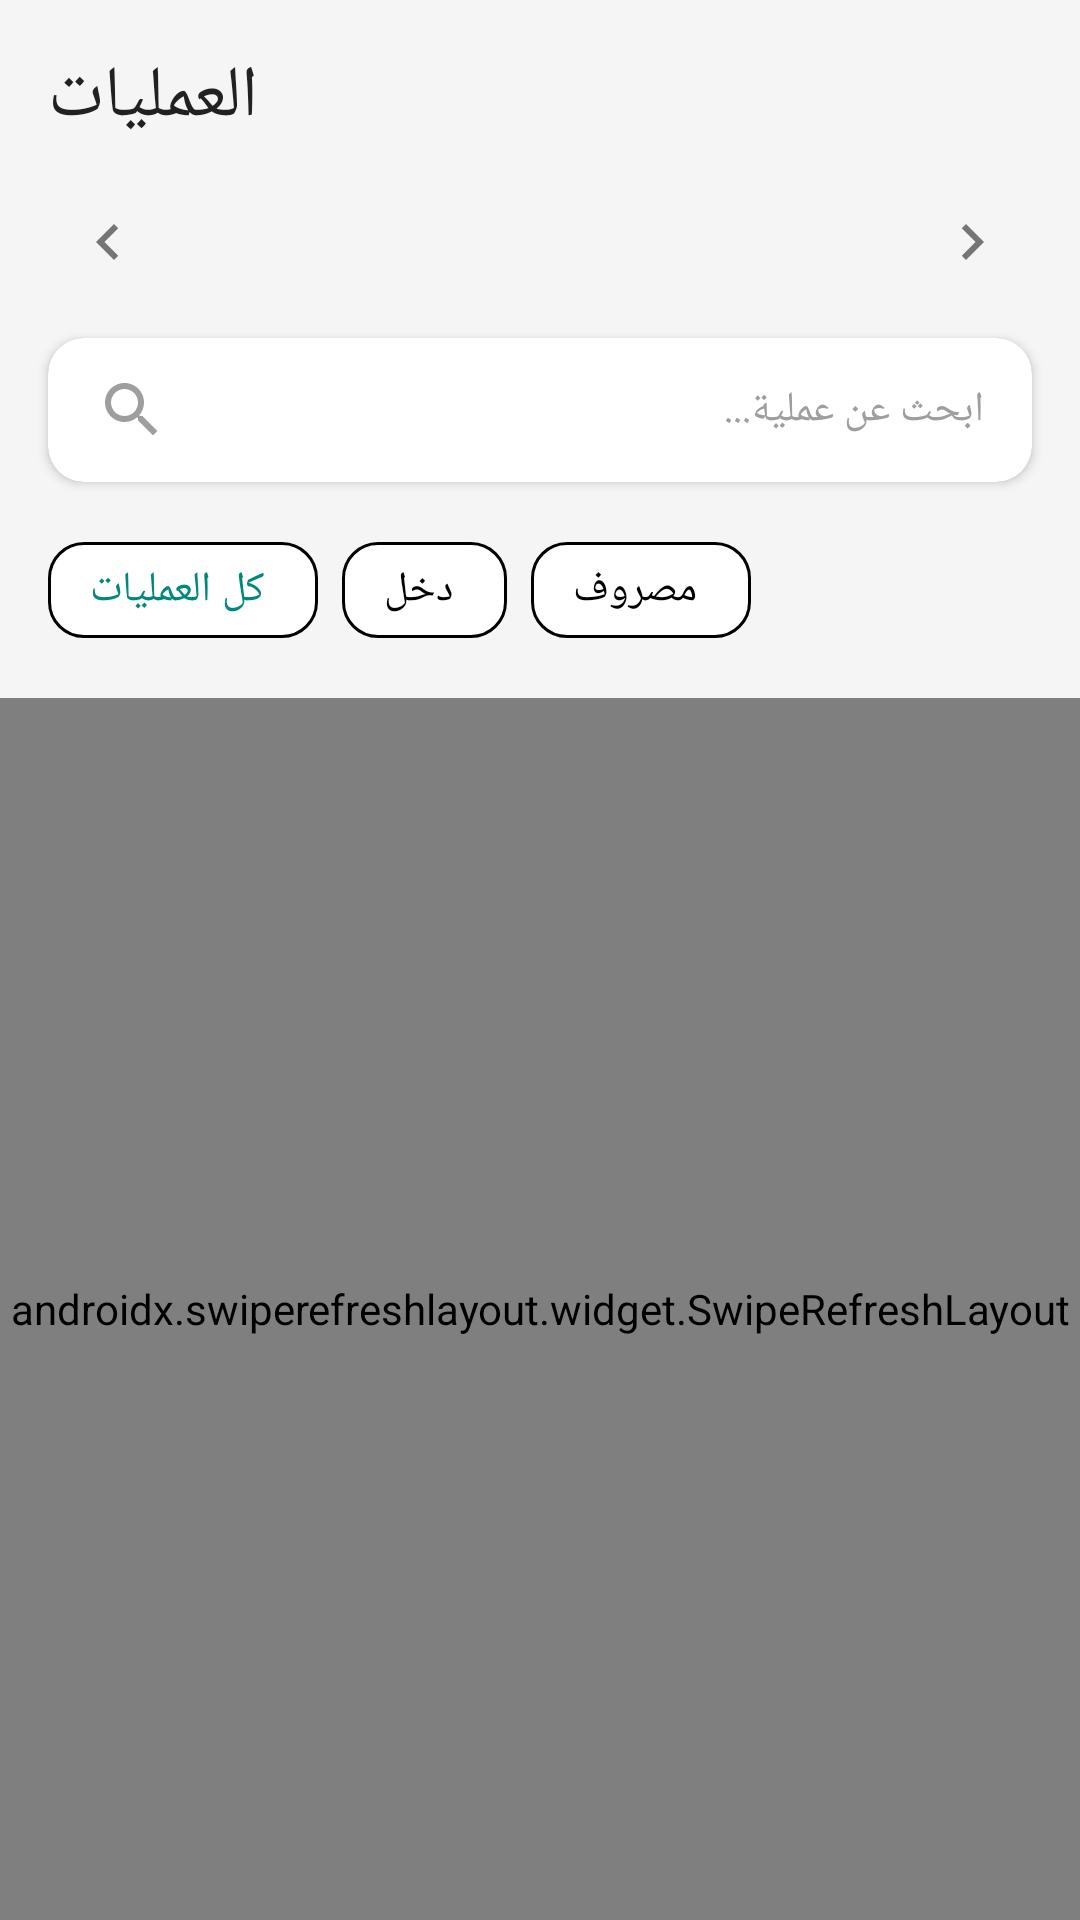

Locate icon controls on the screen. Image size 1080px x 1920px, boxes as box(x1, y1, x2, y2).
search: box(105, 383, 157, 435)
